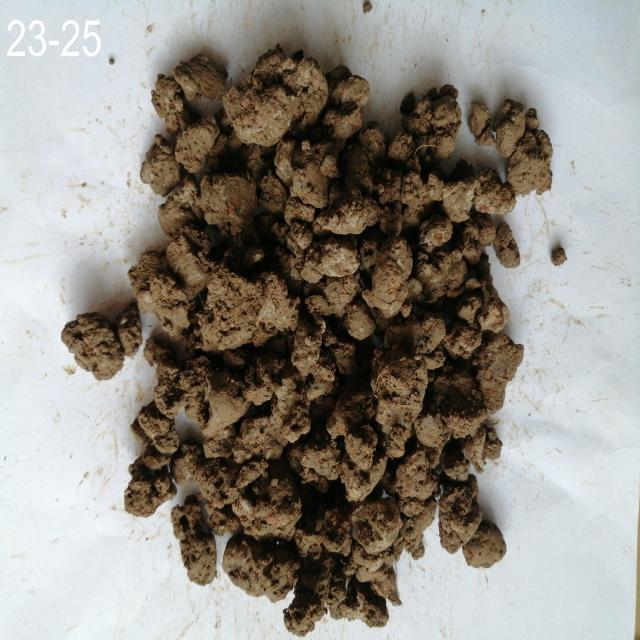soil: (200, 130, 450, 518)
